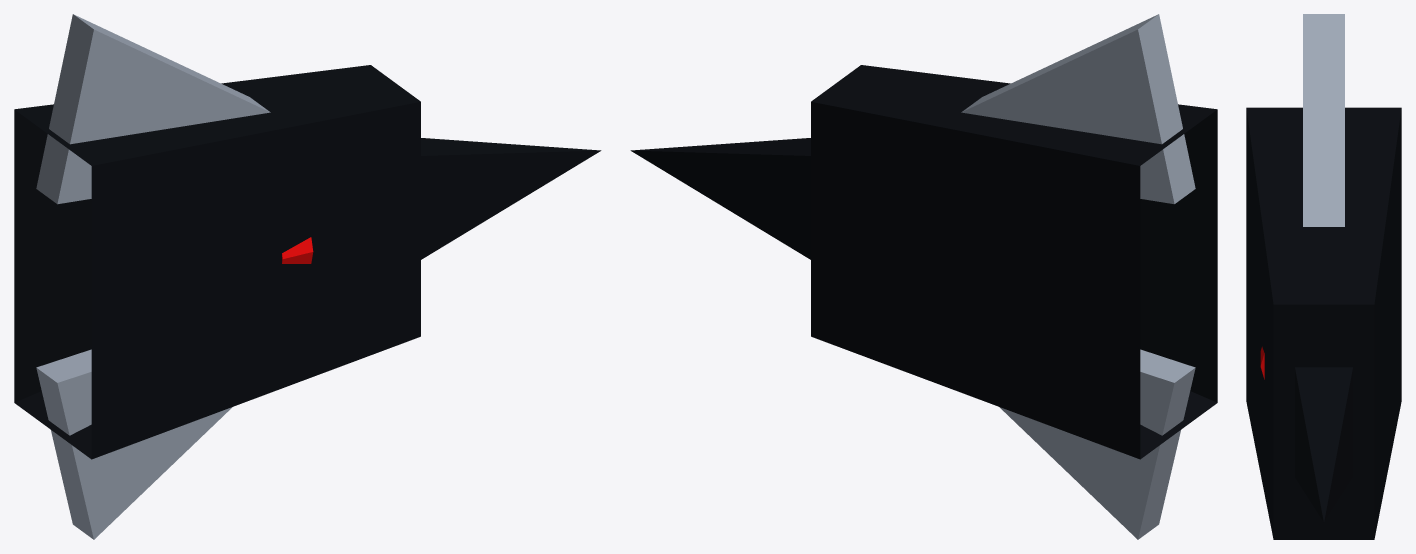
The model's file is hunter.obj.
3 views of the same model, side by side, from view 1: azimuth 30°, elevation 25°; view 2: azimuth 150°, elevation 25°; view 3: azimuth 270°, elevation 25° (orthographic).
Parts seen in each view (by area): view 1: hunter; view 2: hunter; view 3: hunter.
Boxes of the visible parts, bbox=[...] form: hunter: bbox=[14, 14, 601, 539]; hunter: bbox=[630, 14, 1217, 539]; hunter: bbox=[1246, 14, 1401, 539].
Bounding box in the file's own units: 4.55 × 4 × 1.1.
